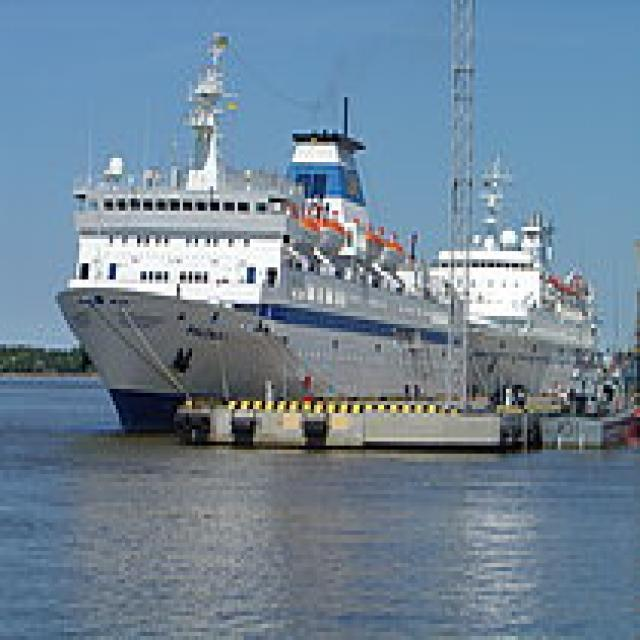Ship: (50, 22, 486, 435)
